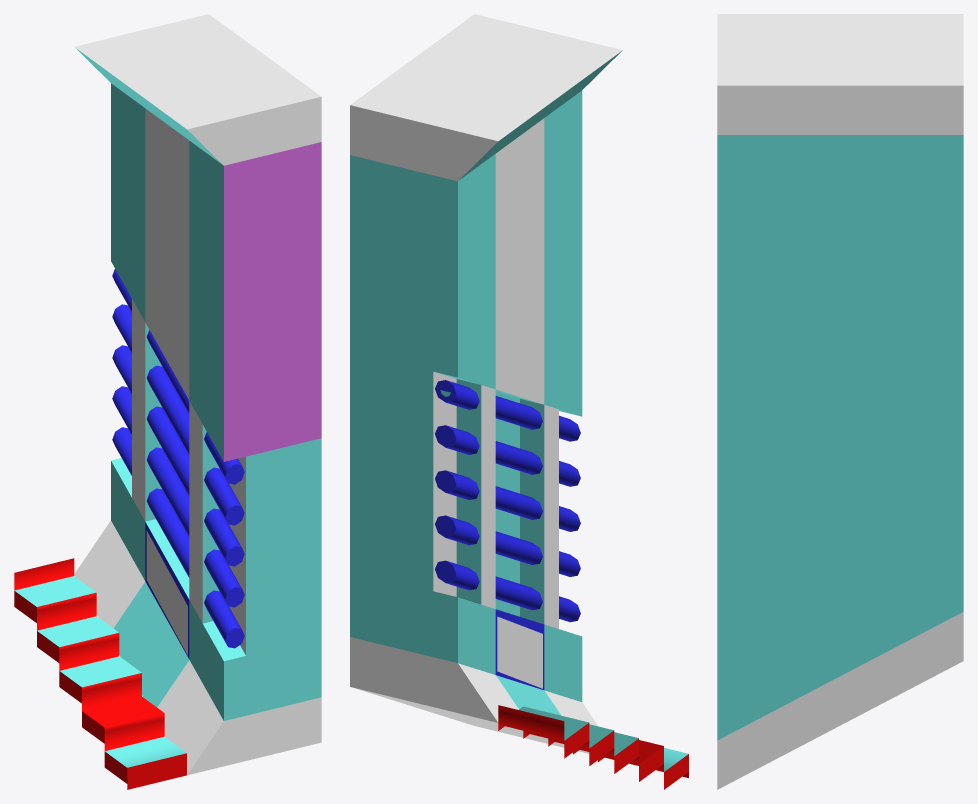
File: Wall-BaseAngledTall.fbx
3 views of the same model, side by side, from view 1: azimuth 30°, elevation 25°; view 2: azimuth 150°, elevation 25°; view 3: azimuth 270°, elevation 25° (orthographic). The views are drawn at different scales.
Visible parts, largest first — view 1: BaseAngledTall; view 2: BaseAngledTall; view 3: BaseAngledTall.
Boxes of the visible parts, x1=… form: BaseAngledTall: x1=14, y1=14, x2=321, y2=789; BaseAngledTall: x1=350, y1=14, x2=688, y2=789; BaseAngledTall: x1=717, y1=14, x2=963, y2=789.
Bounding box in the file's own units: 78.28 × 248 × 78.74.
